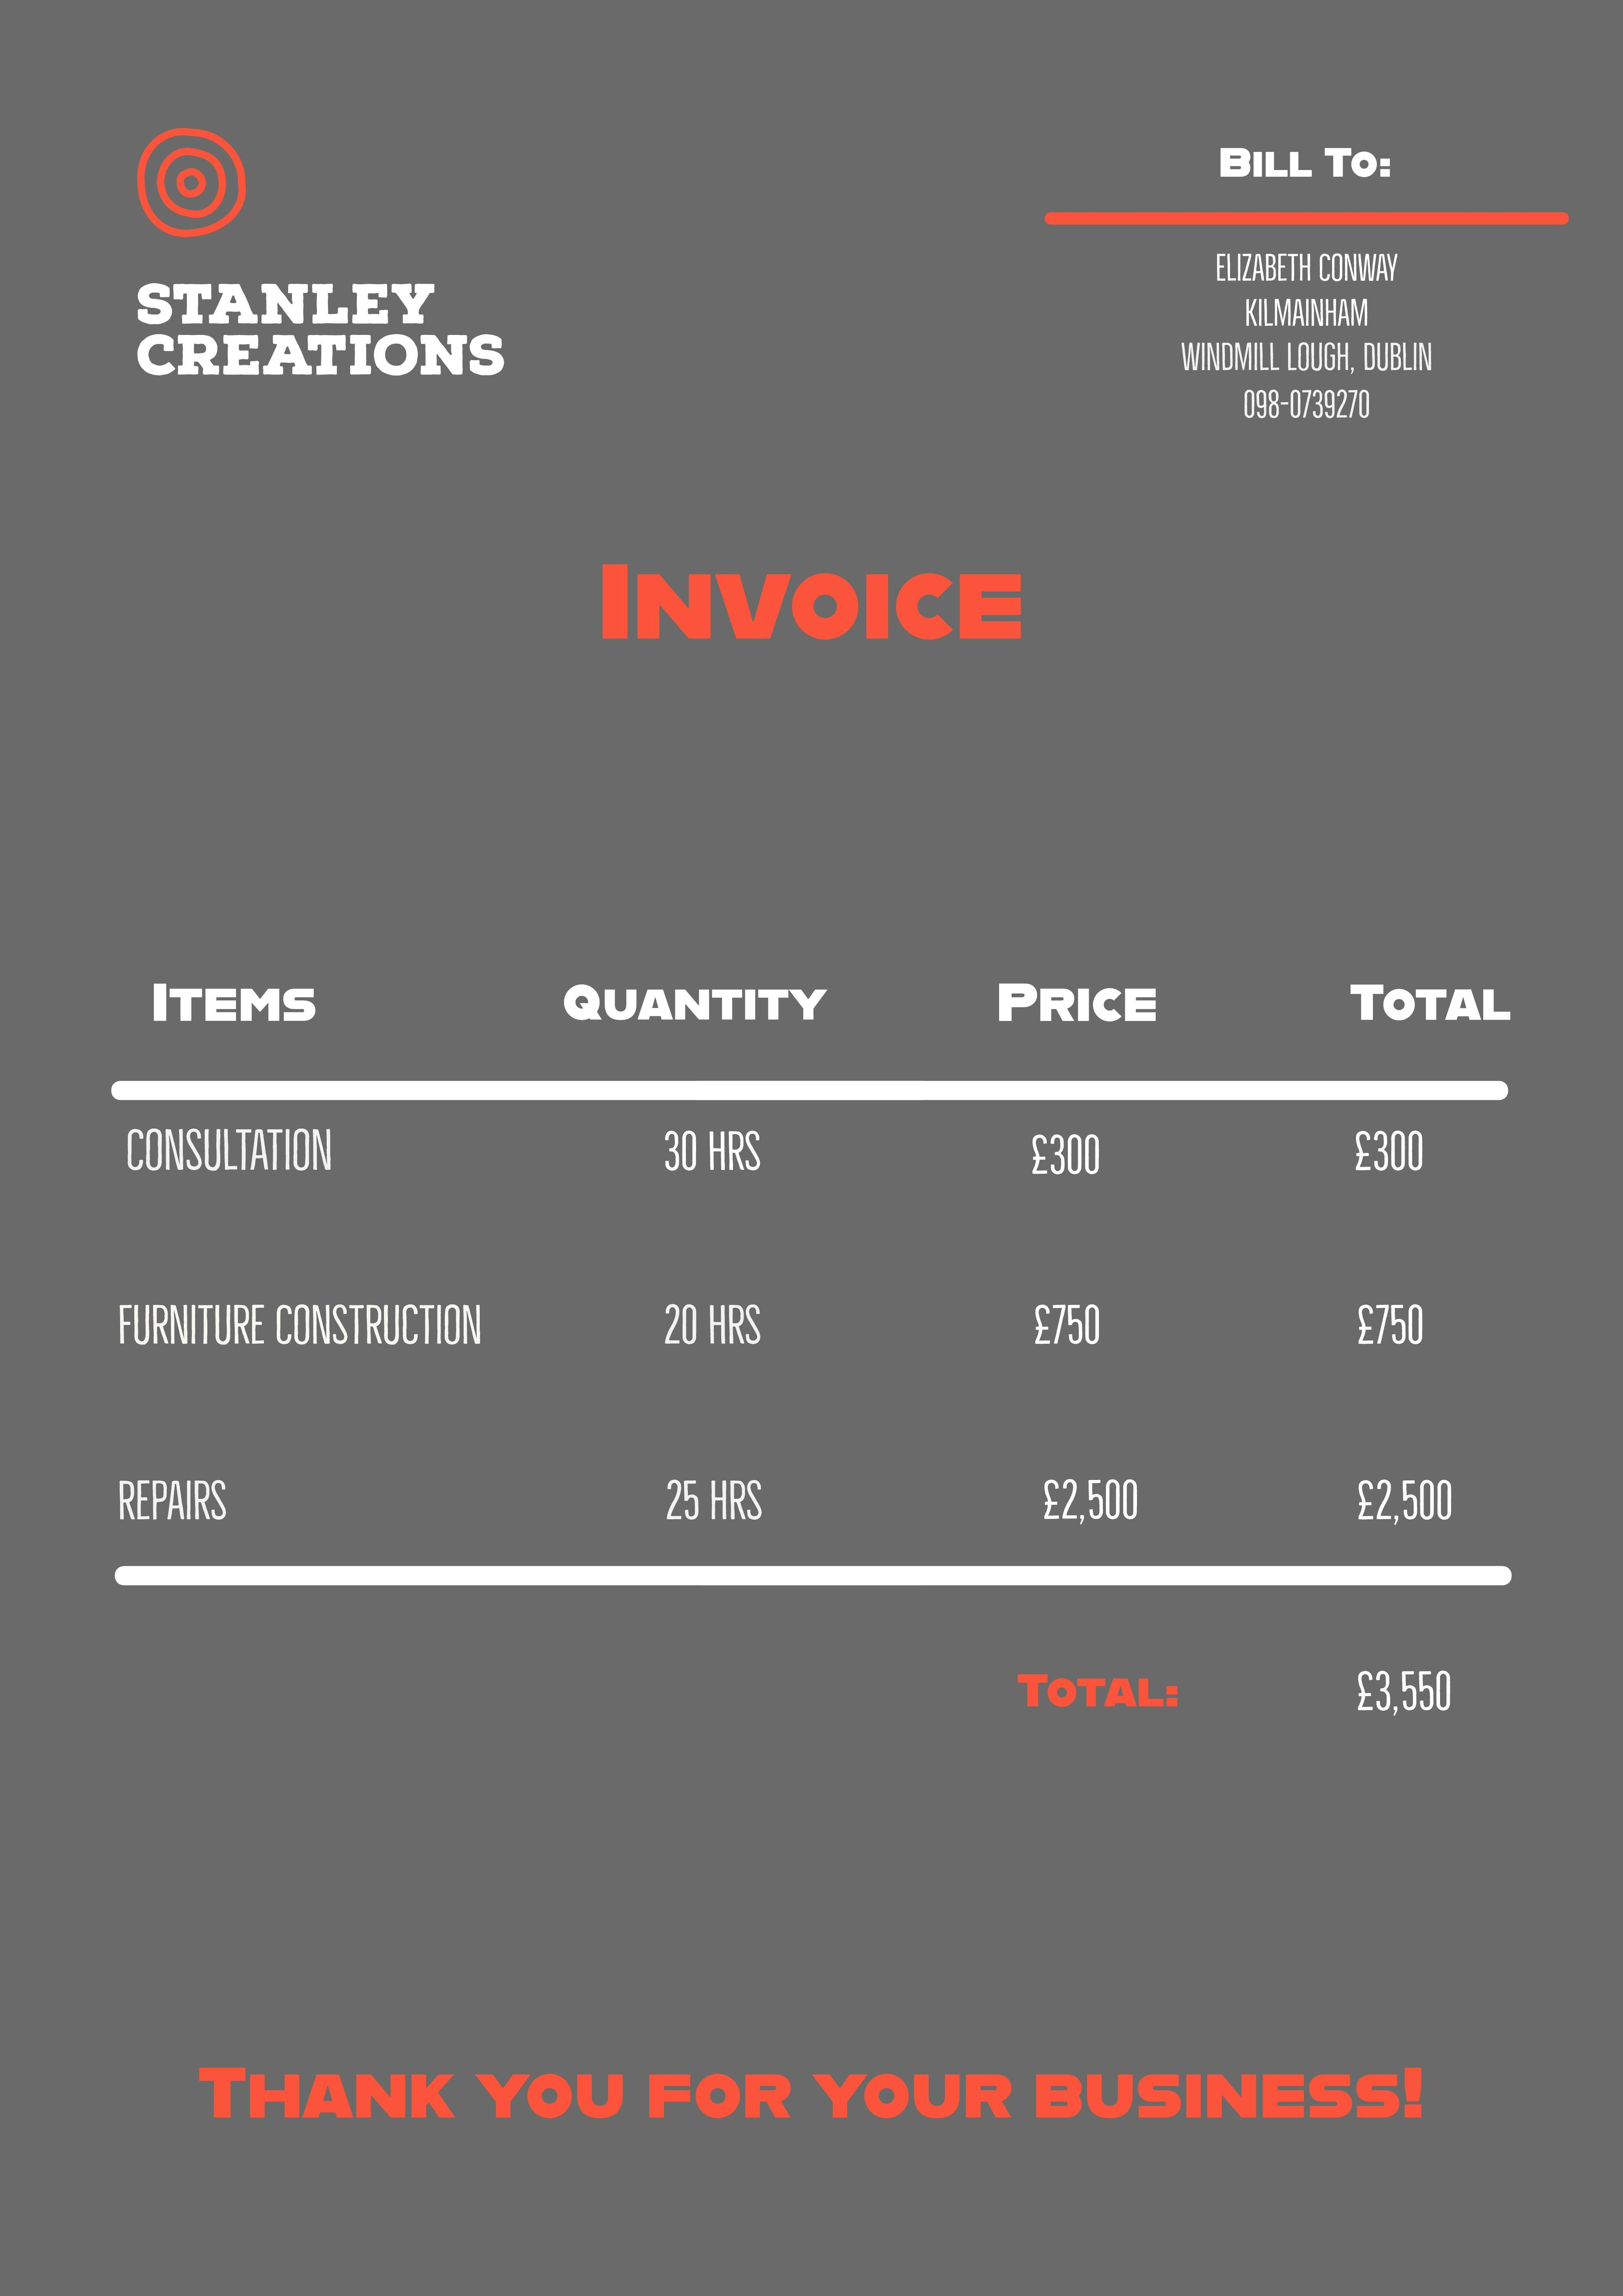ROI: (110, 966, 1514, 1546), (1052, 126, 1563, 422), (110, 243, 552, 403), (1010, 1646, 1479, 1753)
